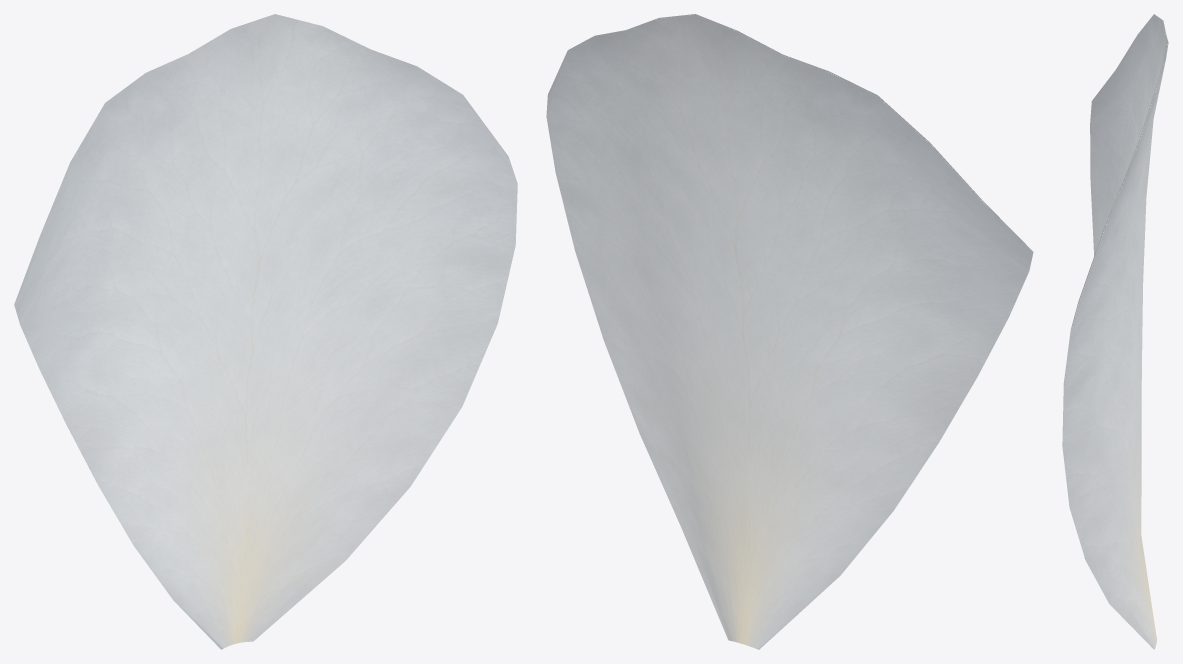
Rendered from outer_04.glb.
The picture shows the model from 3 angles, left to right: view 1: azimuth 30°, elevation 25°; view 2: azimuth 150°, elevation 25°; view 3: azimuth 270°, elevation 25°; orthographic projection. The views are drawn at different scales.
Parts seen in each view (by area): view 1: outer_04; view 2: outer_04; view 3: outer_04.
Boxes of the visible parts, x1,y1,x2,y2 form: outer_04: [14, 14, 517, 649]; outer_04: [546, 14, 1033, 649]; outer_04: [1062, 14, 1168, 649].
Size of the model in its own units: 0.0748 by 0.0898 by 0.0142.
Materials: 1 (1 with a texture image).
